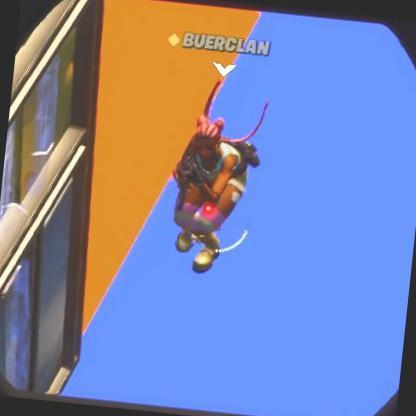person: (172, 117, 250, 259)
